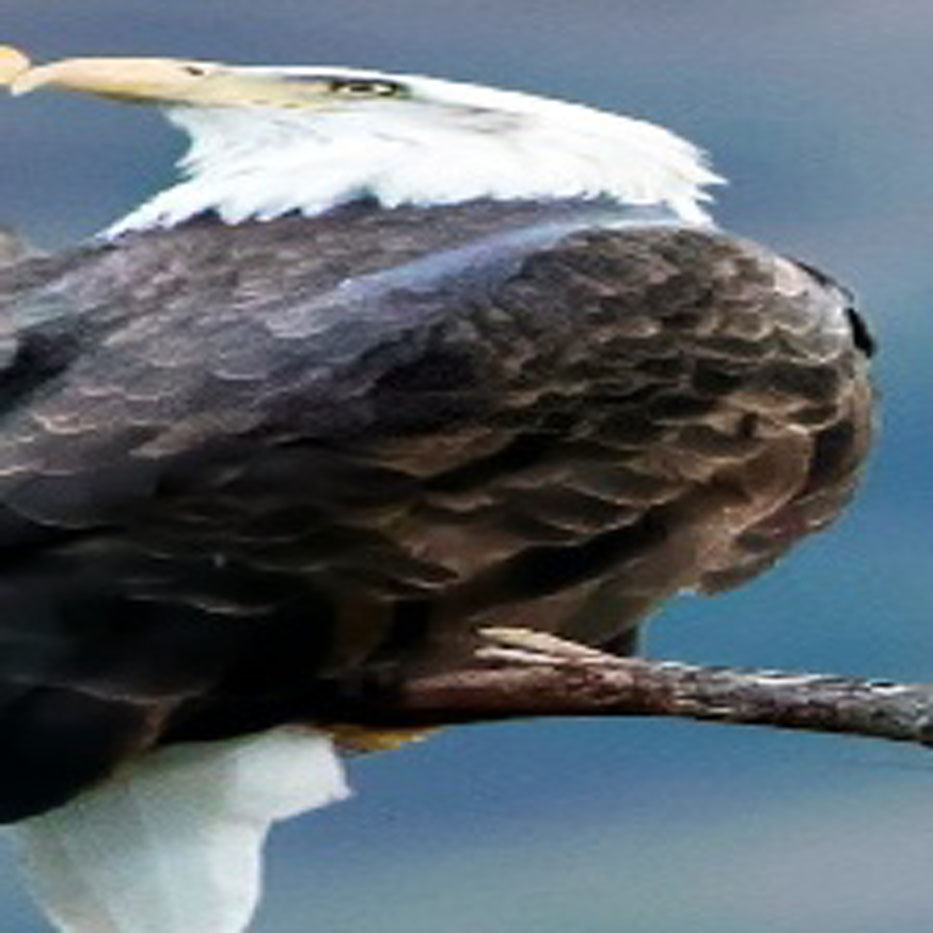Pengoyak Daging: (4, 40, 229, 134)
